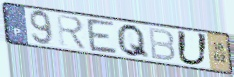9: (29, 9, 55, 48)
B: (147, 26, 177, 63)
E: (85, 17, 120, 56)
Q: (115, 23, 151, 61)
R: (55, 13, 90, 52)
U: (176, 29, 210, 67)
